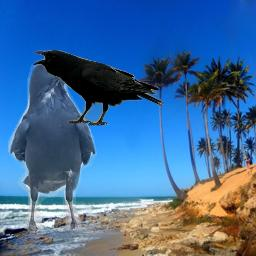Crow: (8, 58, 98, 233), (33, 50, 164, 127)
